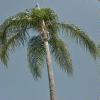Palm tree: (18, 4, 99, 99)
